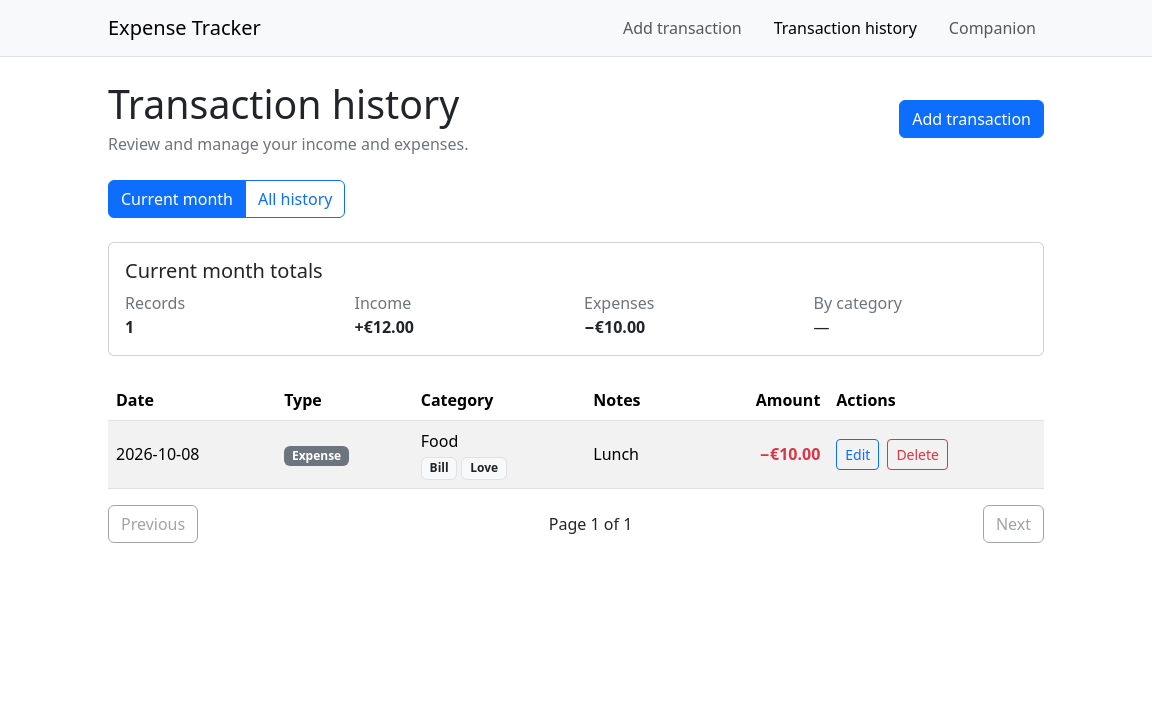
Test case: TransactionHistoryPage › requires modal confirmation and supports cancel before soft deletion
Expected: the text "Lunch" is shown, [585, 421, 692, 488]
Click the button "Delete".
click(918, 454)  # box [887, 439, 948, 470]
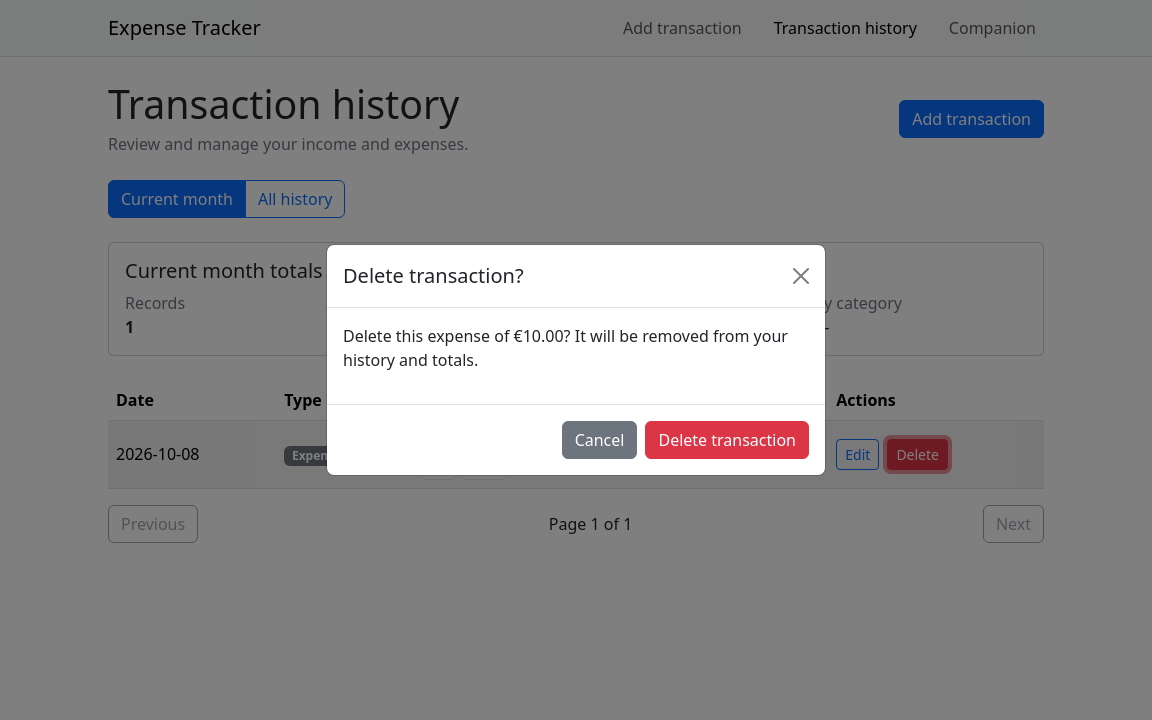
Now the dialog "Delete transaction?" is shown, box [326, 244, 826, 476]
Click the button "Cancel".
click(600, 440)  # box [562, 421, 637, 459]
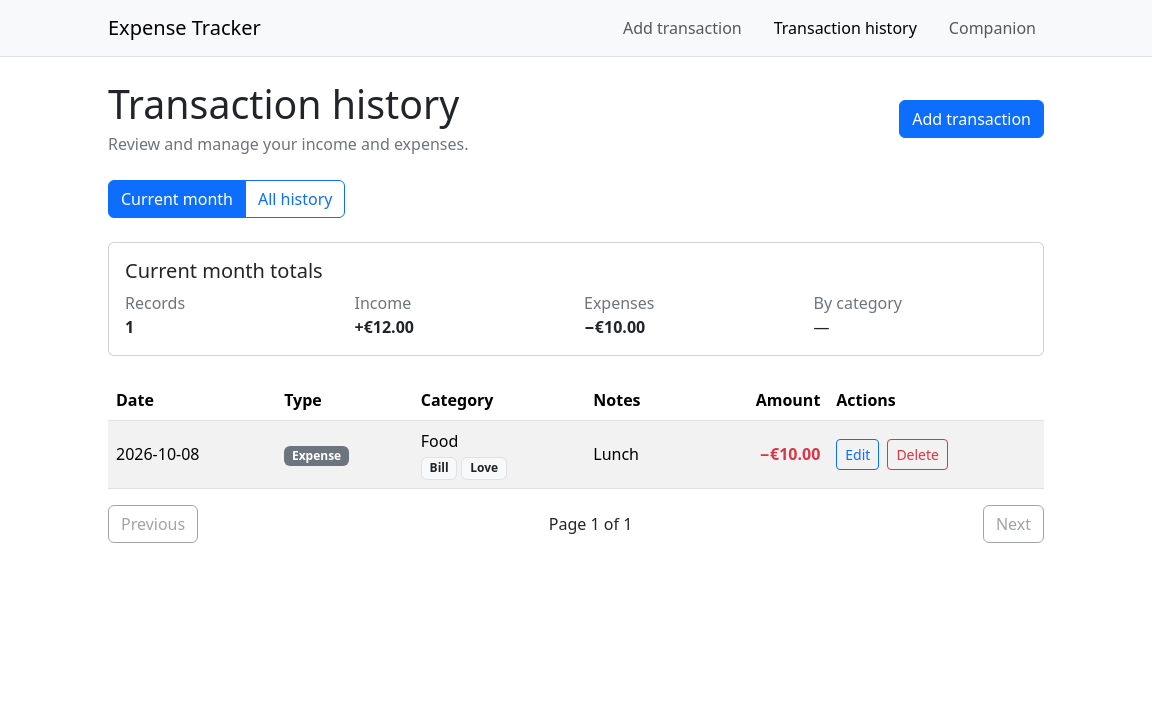
Click the button "Delete".
click(918, 454)  # box [887, 439, 948, 470]
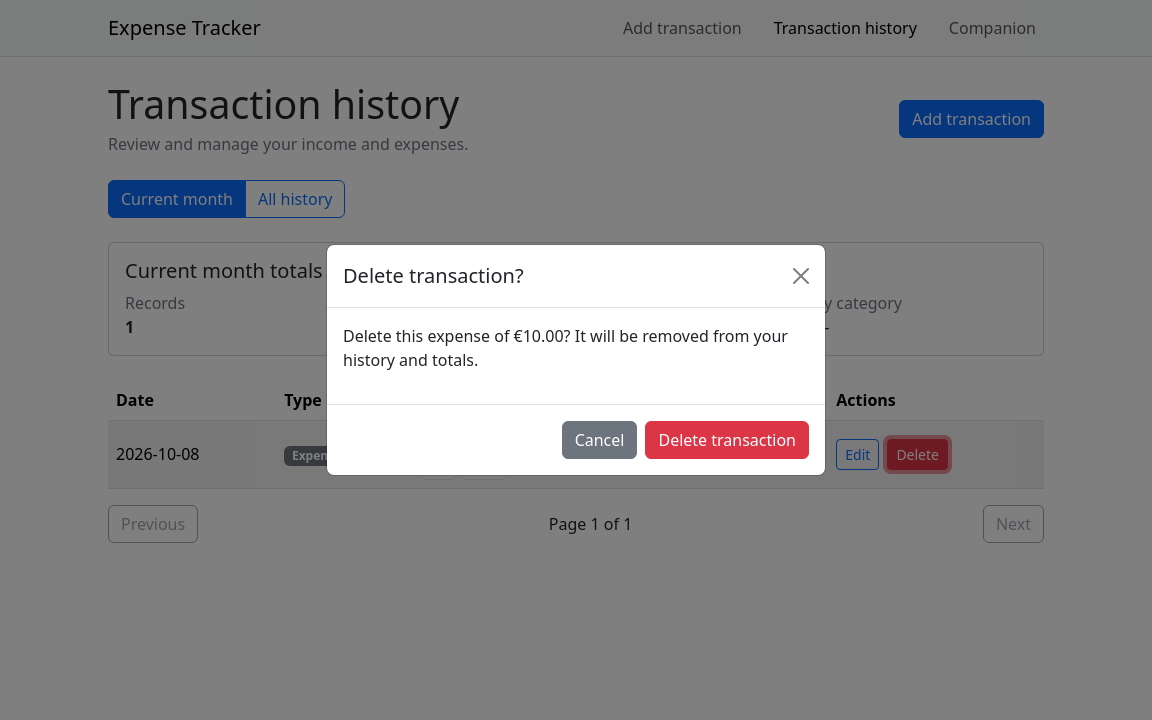
Click the button "Delete transaction".
click(727, 440)  # box [646, 421, 809, 459]
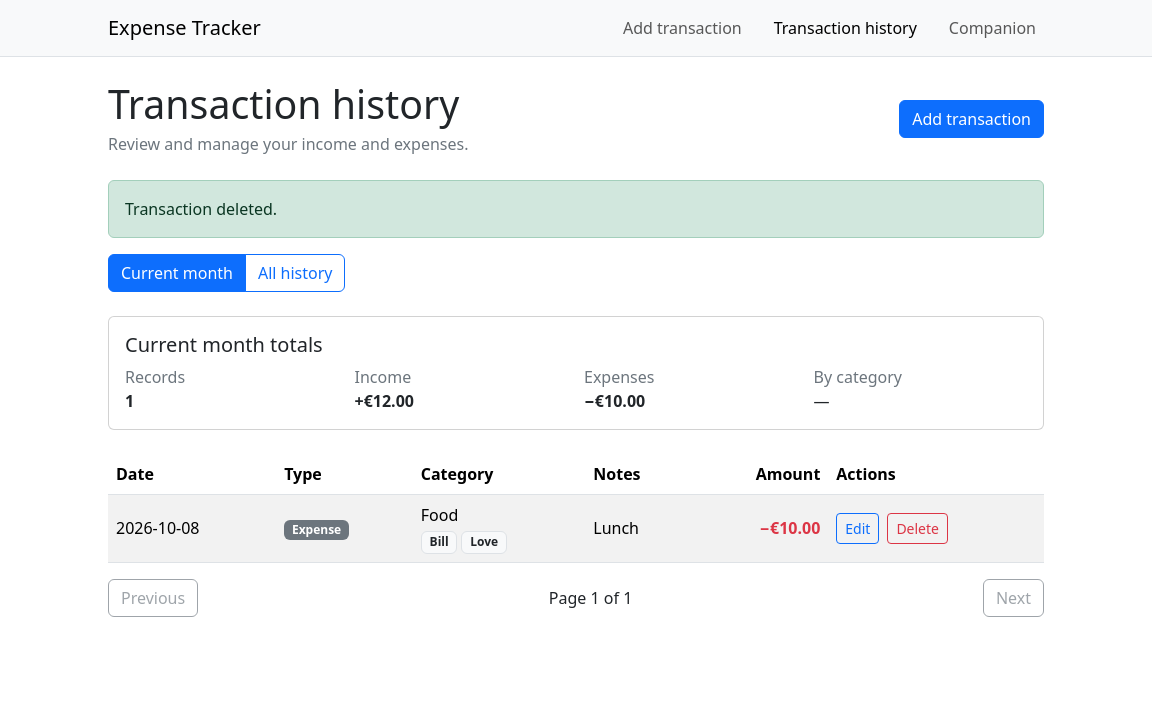
Now the message reads "Transaction deleted.", box [125, 198, 277, 220]
